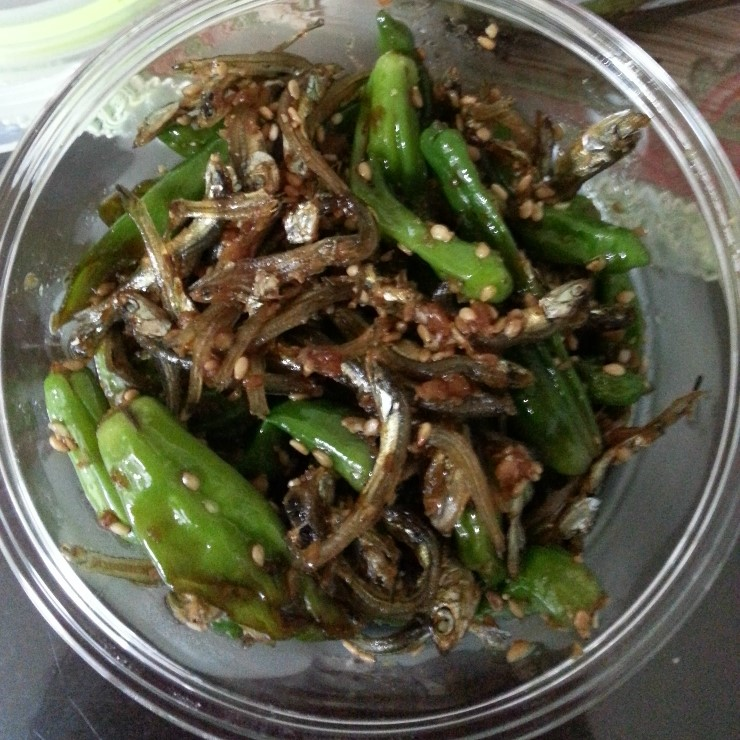myeolchibokk-eum: (44, 41, 662, 666)
